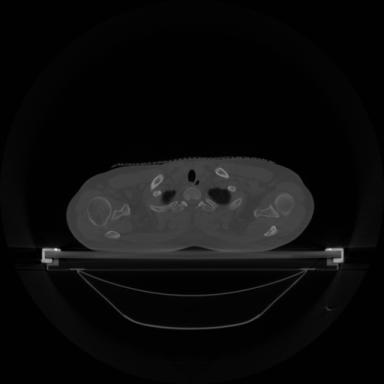body: (68, 158, 314, 251)
paru kanan: (162, 190, 176, 204)
paru kiri: (208, 188, 231, 204)
